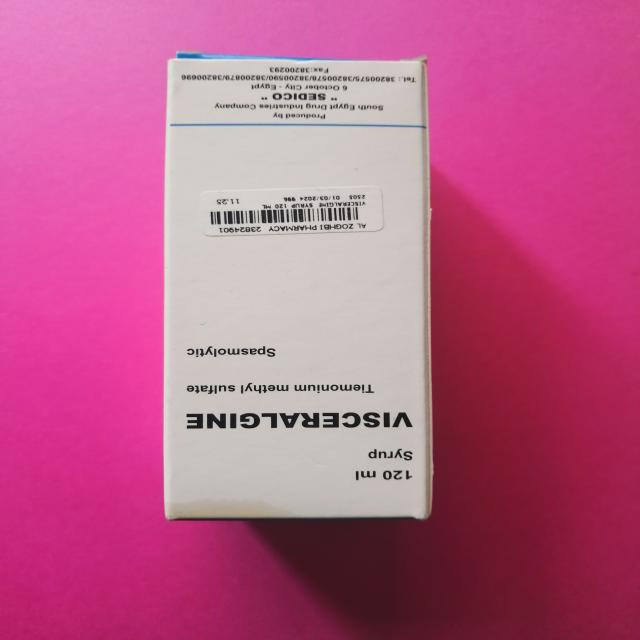Medicine: (159, 41, 442, 529)
